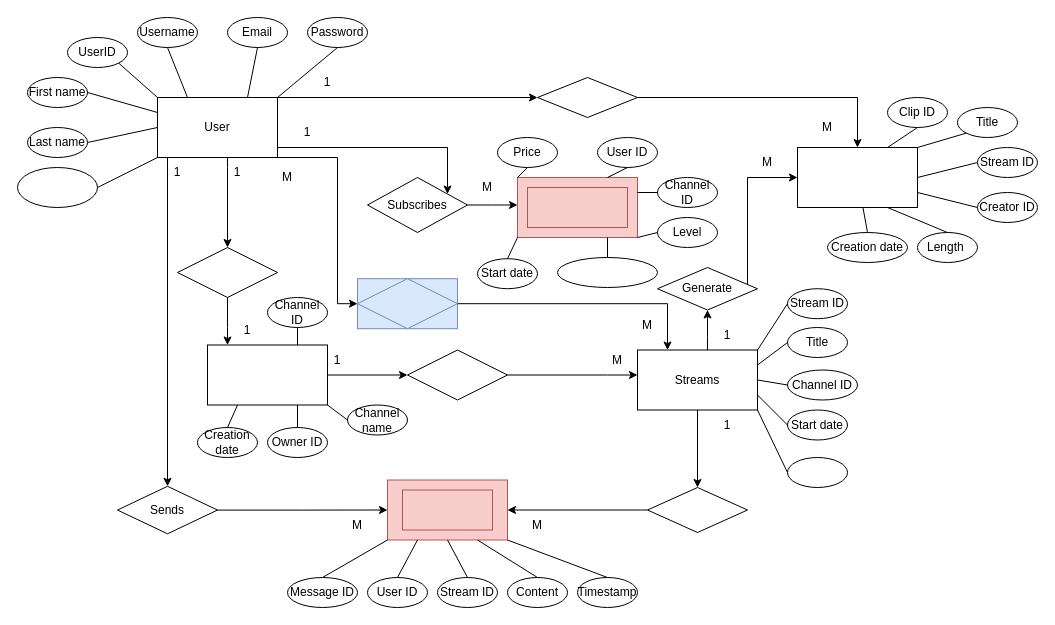
Image size: 1055x625. Some labels were removed from this diagram. The centre of each missing label's shape, as x and y in pixels:
"Channels" goes at pixel 267 374.
"ChatMessages" goes at pixel 447 509.
"Clips" goes at pixel 857 177.
"Contains" goes at pixel 697 509.
"Creates" goes at pixel 587 97.
"End date" goes at pixel 817 472.
"Has lIked" goes at pixel 407 303.
"Hosts" goes at pixel 457 374.
"Owns" goes at pixel 227 272.
"Registration date" goes at pixel 57 187.
"Subscription ID" goes at pixel 607 272.
"Subscriptions" goes at pixel 577 207.
